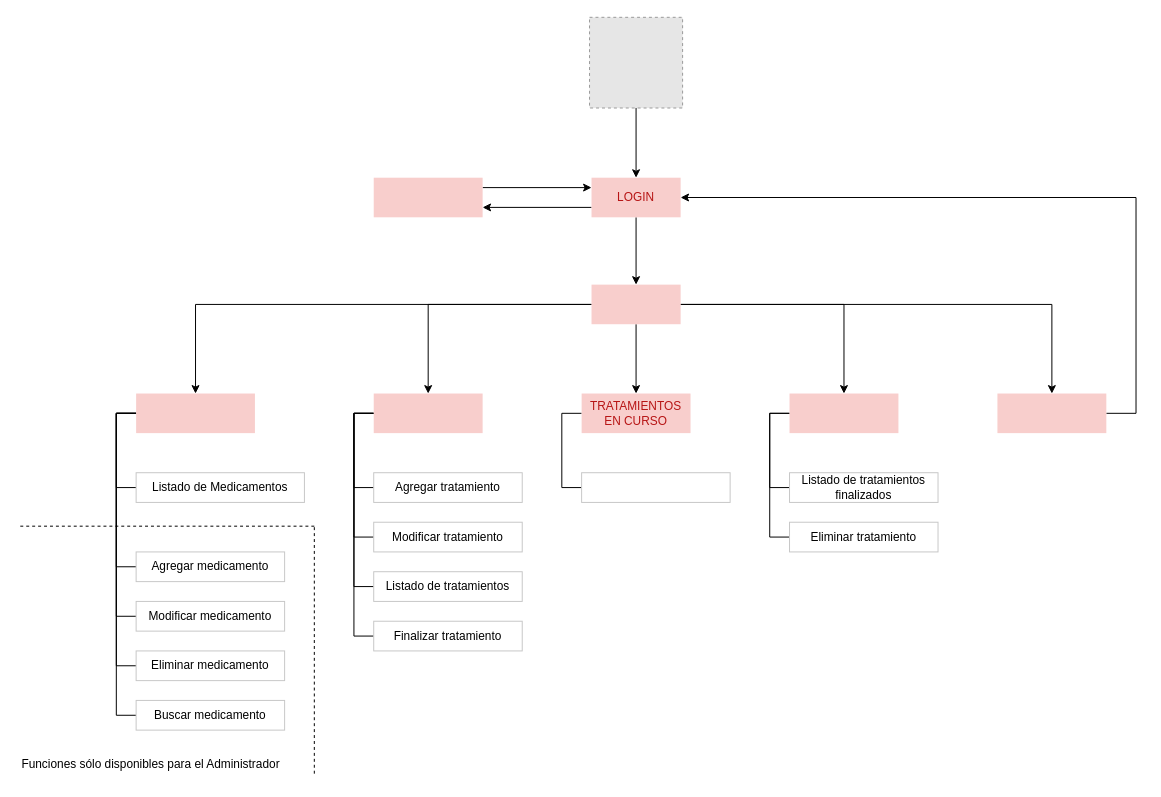
Image size: 1161x797. Some labels were removed from this diagram. Grey dashed boxes stand in for pictures. The centre of each missing label's shape, as x and y in pixels:
"CIERRE SESION" goes at [1051,413].
"CONSULTA MEDICAMENTOS" goes at [195,413].
"HOME CRONOMED" goes at [635,304].
"Listado de tratamientos con frecuencia horaria" goes at [655,487].
"REGISTRO TRATAMIENTO" goes at [427,413].
"REGISTRO USUARIO" goes at [427,197].
"TRATAMIENTOS FINALIZADOS" goes at [843,413].
